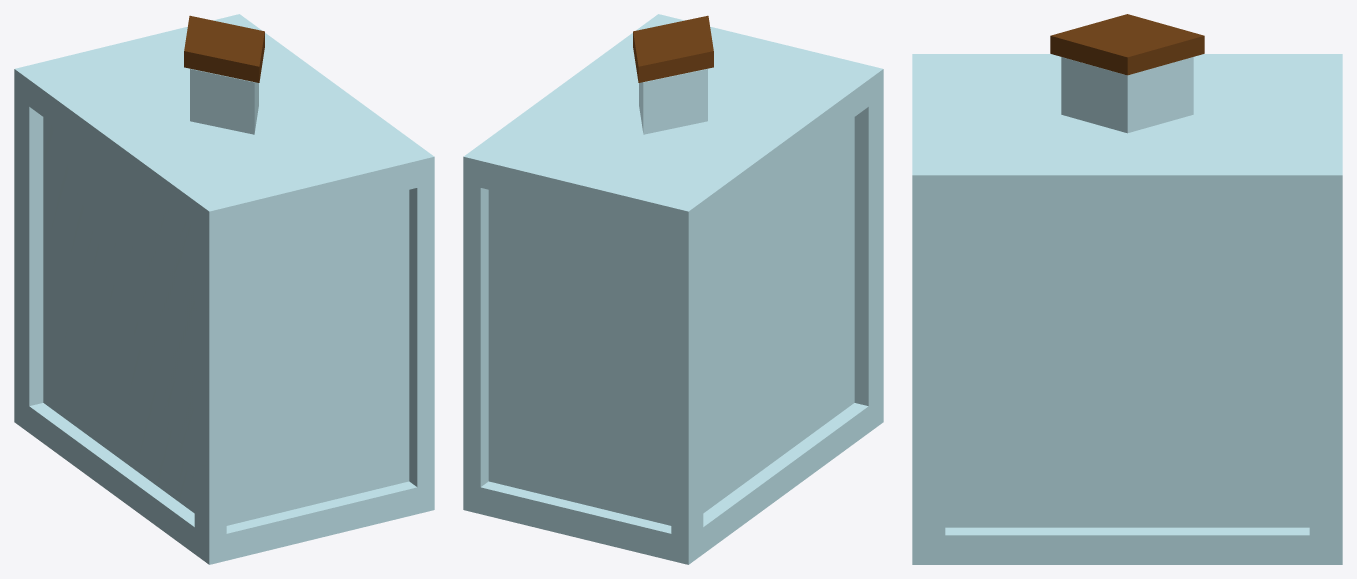
File: Potion1.fbx
3 views of the same model, side by side, from view 1: azimuth 30°, elevation 25°; view 2: azimuth 150°, elevation 25°; view 3: azimuth 270°, elevation 25° (orthographic). The views are drawn at different scales.
Parts seen in each view (by area): view 1: Potion2; view 2: Potion2; view 3: Potion2.
Part boxes in pixels (box(x1,y1,x2,y2)): Potion2: box(14, 14, 434, 564); Potion2: box(463, 14, 883, 564); Potion2: box(912, 14, 1342, 564).
Bounding box in the file's own units: 12.48 × 22.51 × 18.72.
